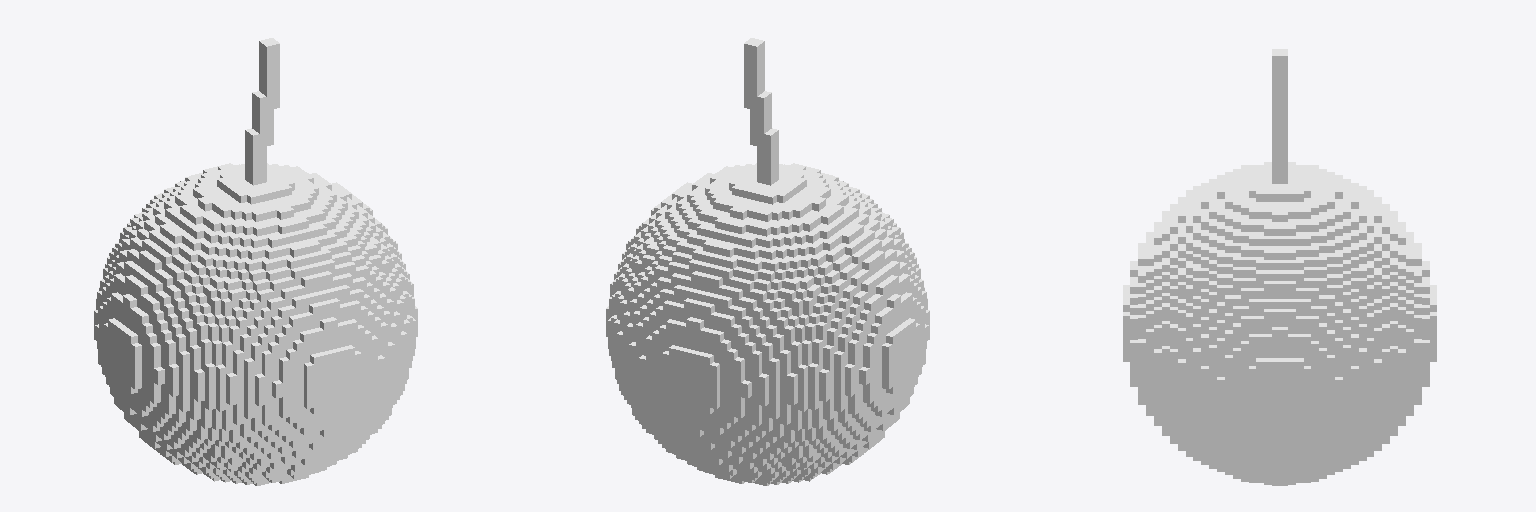
File: bom.obj
3 views of the same model, side by side, from view 1: azimuth 30°, elevation 25°; view 2: azimuth 150°, elevation 25°; view 3: azimuth 270°, elevation 25° (orthographic).
Parts seen in each view (by area): view 1: object 1; view 2: object 1; view 3: object 1.
Part boxes in pixels (x1,y1,x2,y2): object 1: (94,38,417,485); object 1: (606,38,929,485); object 1: (1123,49,1436,485).
Bounding box in the file's own units: 4 × 5.9 × 4.